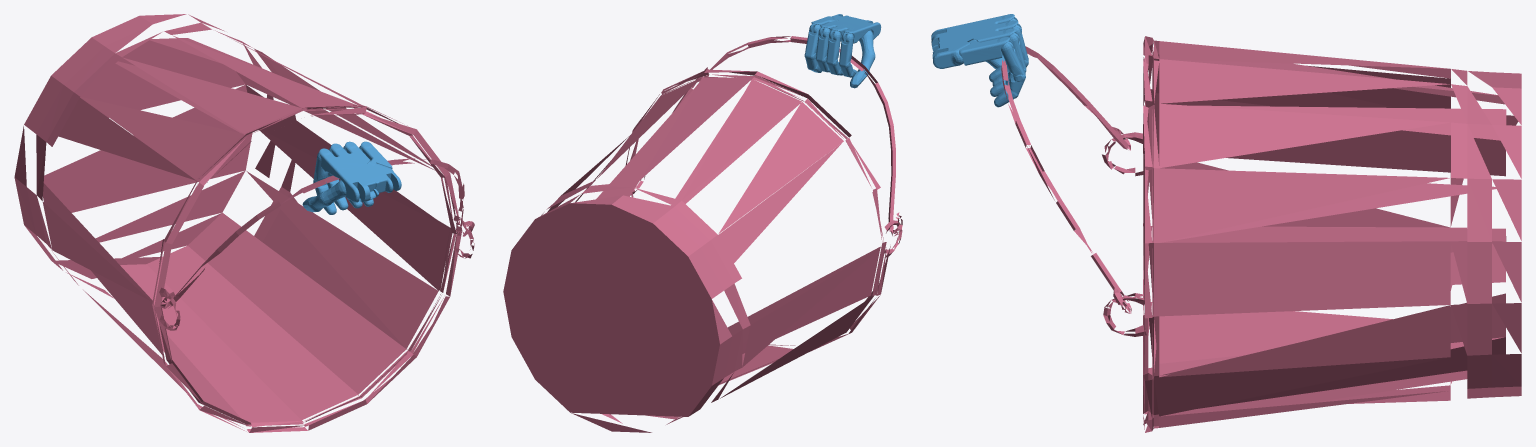
The picture shows the model from 3 angles, left to right: view 1: azimuth 30°, elevation 25°; view 2: azimuth 150°, elevation 25°; view 3: azimuth 270°, elevation 25°; orthographic projection. The views are drawn at different scales.
Parts seen in each view (by area): view 1: 0; view 2: 0; view 3: 0.
Boxes of the visible parts, left/top/right/bottom form: 0: left=14, top=14, right=474, bottom=432; 0: left=503, top=14, right=902, bottom=432; 0: left=931, top=14, right=1521, bottom=432.
Size of the model in its own units: 0.524 by 0.5385 by 0.7671.
